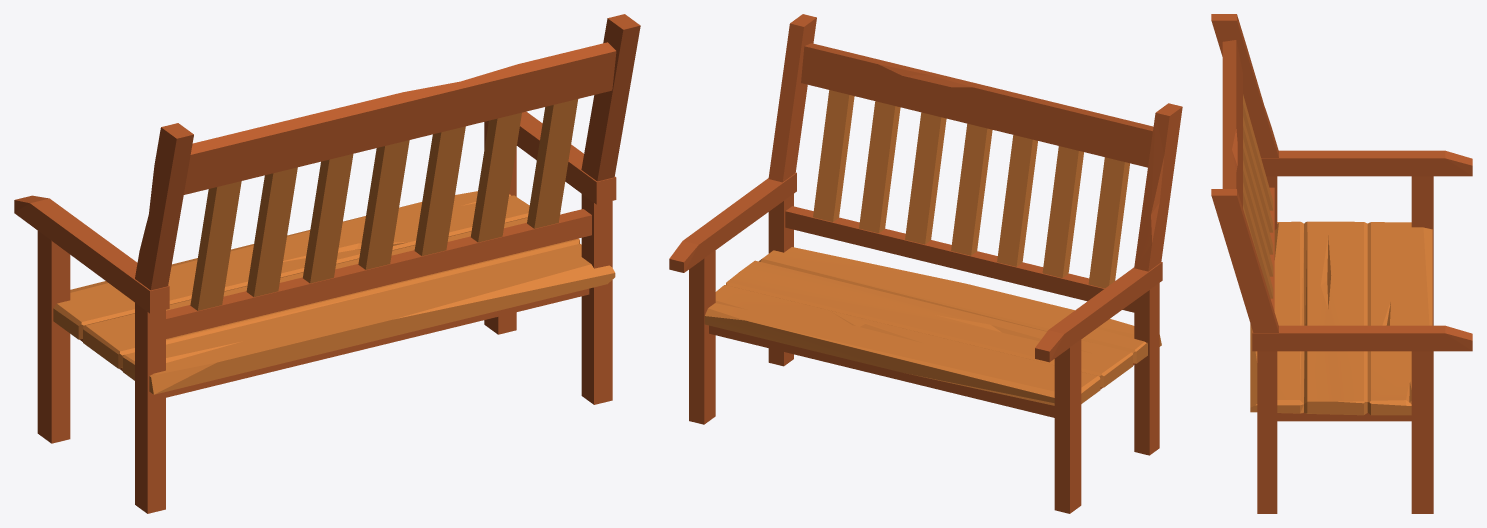
File: chair.fbx
3 renders of one model, left to right at view 1: azimuth 30°, elevation 25°; view 2: azimuth 150°, elevation 25°; view 3: azimuth 270°, elevation 25°, orthographic. The views are drawn at different scales.
Visible parts, largest first — view 1: polySurface1350; view 2: polySurface1350; view 3: polySurface1350.
Part boxes in pixels (x1,y1,x2,y2): polySurface1350: (14,14,640,513); polySurface1350: (669,14,1182,513); polySurface1350: (1211,14,1472,513).
Size of the model in its own units: 186 by 151 by 112.
